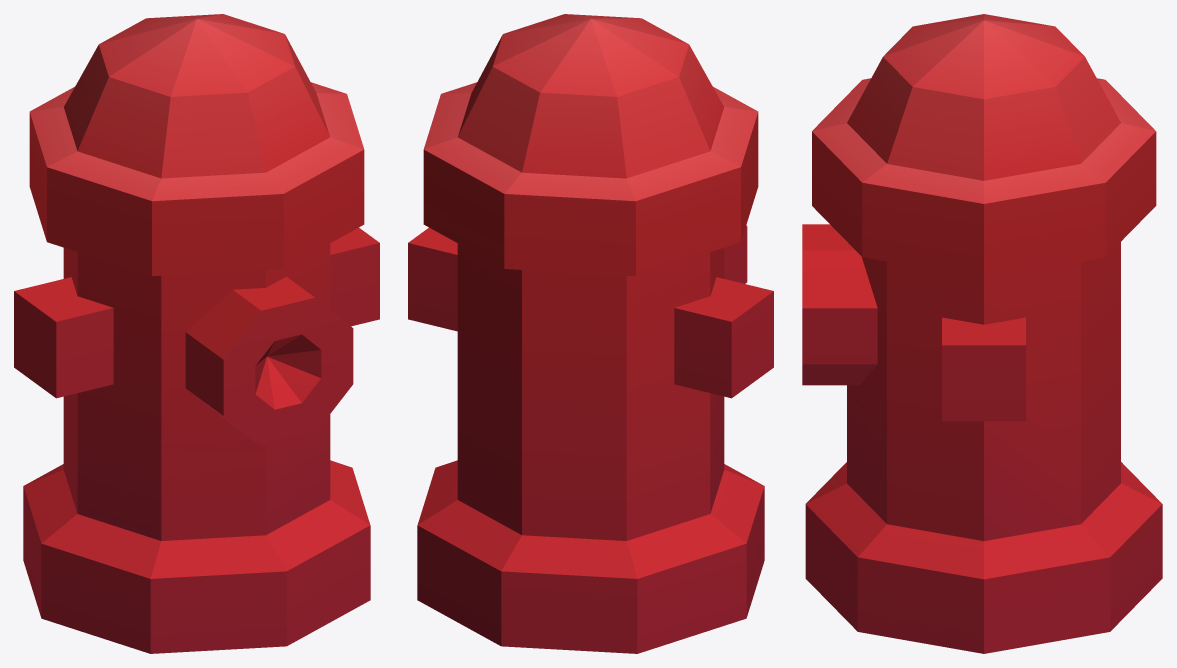
File: firehydrant.obj
3 views of the same model, side by side, from view 1: azimuth 30°, elevation 25°; view 2: azimuth 150°, elevation 25°; view 3: azimuth 270°, elevation 25° (orthographic).
Size of the model in its own units: 0.1355 by 0.2246 by 0.1313.
1 material, 1 textured.
